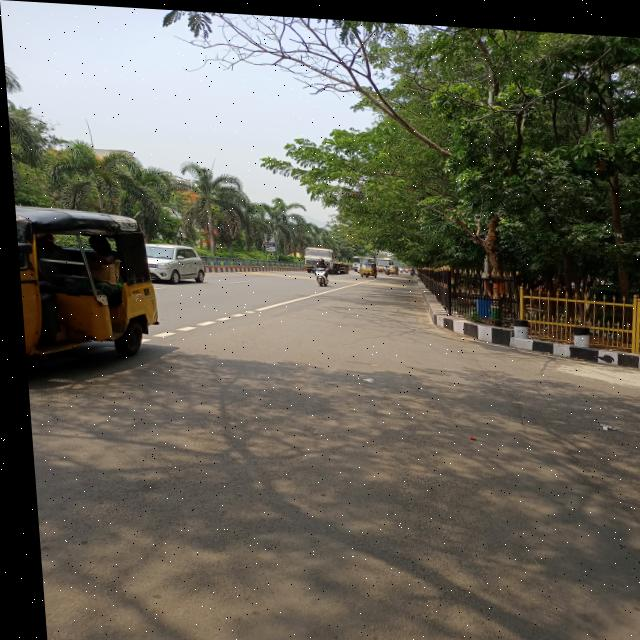bike: (308, 264, 327, 282)
car: (140, 237, 216, 292)
